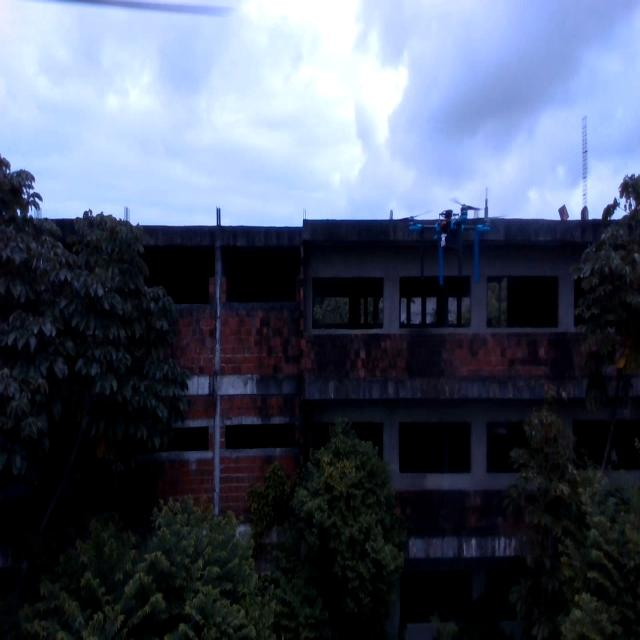-uav-: (394, 192, 493, 288)
